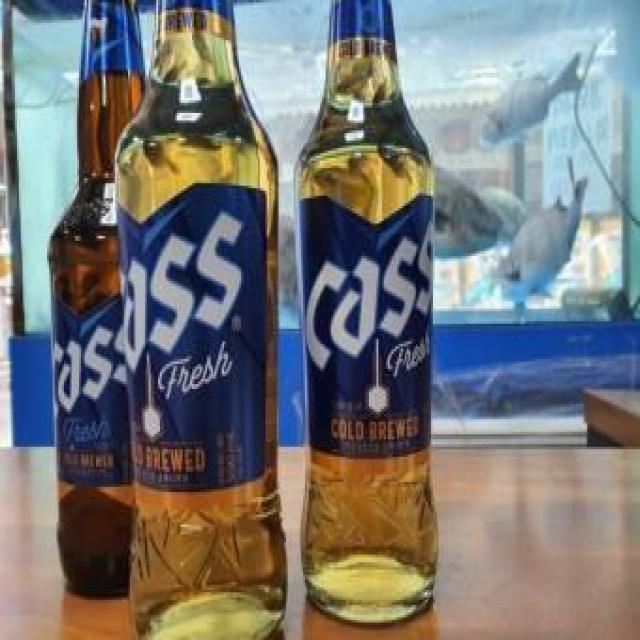beer-bottle: (112, 5, 300, 640), (292, 0, 452, 632), (51, 0, 143, 601)
